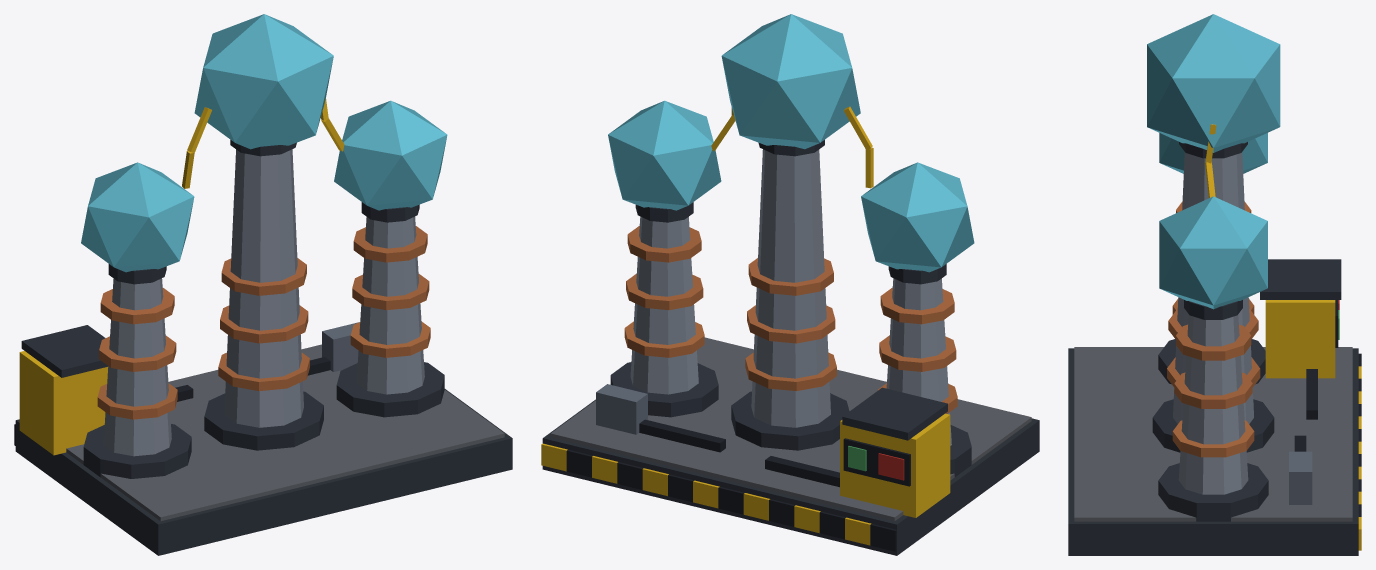
File: Decor_RobotFactory_Generator.fbx
3 views of the same model, side by side, from view 1: azimuth 30°, elevation 25°; view 2: azimuth 150°, elevation 25°; view 3: azimuth 270°, elevation 25° (orthographic).
Parts seen in each view (by area): view 1: Generator_Body; view 2: Generator_Body; view 3: Generator_Body.
Part boxes in pixels (bbox=[...]): Generator_Body: bbox=[14, 14, 512, 555]; Generator_Body: bbox=[541, 14, 1039, 555]; Generator_Body: bbox=[1068, 14, 1361, 555].
Bounding box in the file's own units: 14.5 × 17.1 × 10.
